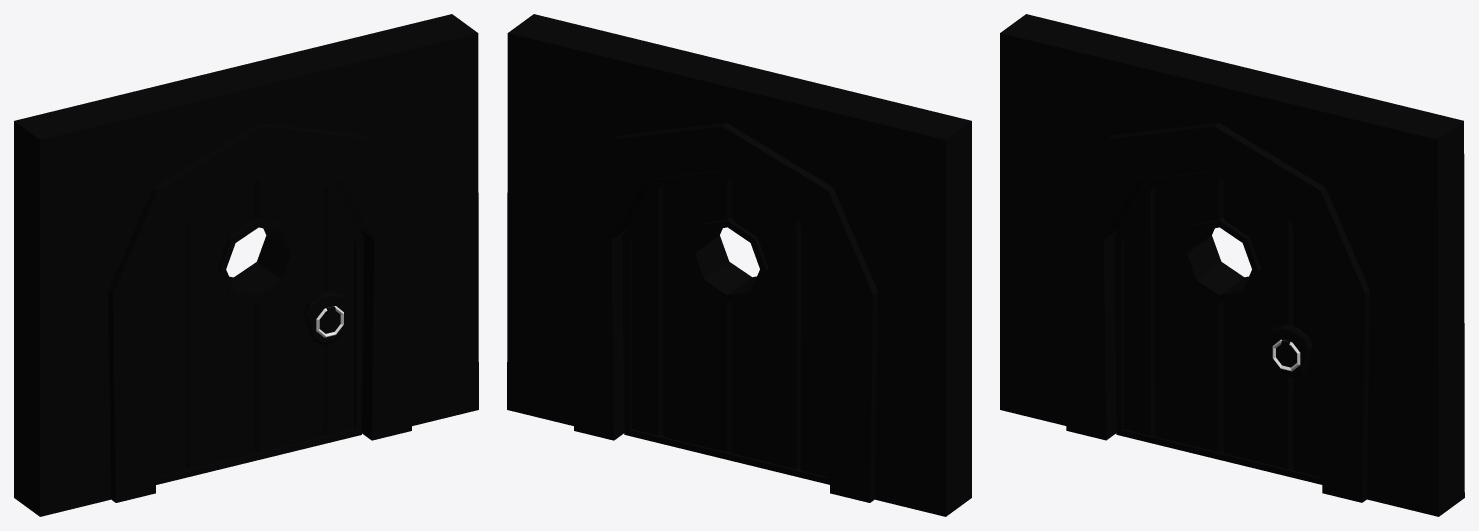
Rendered from Door.fbx.
3 views of the same model, side by side, from view 1: azimuth 30°, elevation 25°; view 2: azimuth 150°, elevation 25°; view 3: azimuth 330°, elevation 25° (orthographic).
Parts seen in each view (by area): view 1: Wall, Door, Jamb; view 2: Wall, Door, Jamb; view 3: Wall, Door, Jamb.
Part boxes in pixels (left/top/right/bottom): Wall: left=14, top=14, right=478, bottom=516; Door: left=153, top=170, right=363, bottom=484; Jamb: left=108, top=123, right=414, bottom=502; Wall: left=507, top=14, right=971, bottom=516; Door: left=622, top=170, right=832, bottom=484; Jamb: left=571, top=123, right=877, bottom=502; Wall: left=1000, top=14, right=1464, bottom=516; Door: left=1114, top=170, right=1324, bottom=484; Jamb: left=1063, top=123, right=1369, bottom=502.
Bounding box in the file's own units: 5.34 × 4.39 × 0.7514.
Materials: 1 (1 with a texture image).
